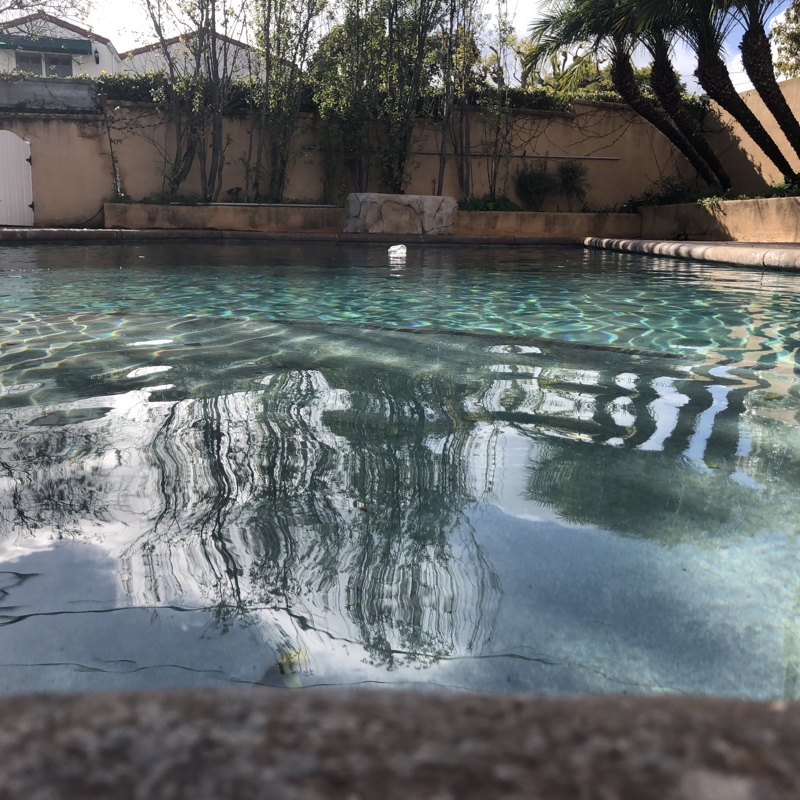Plastic Bottle: (386, 242, 404, 259)
